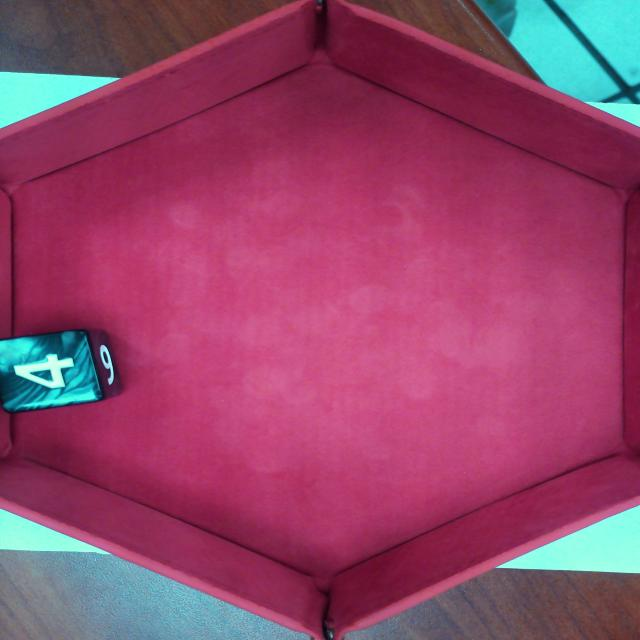dice: (4, 333, 100, 410)
